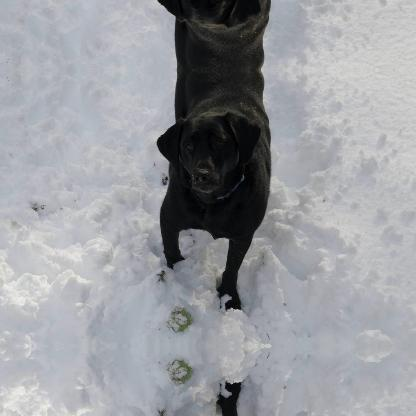Dog: (158, 68, 272, 314), (158, 0, 273, 70)
